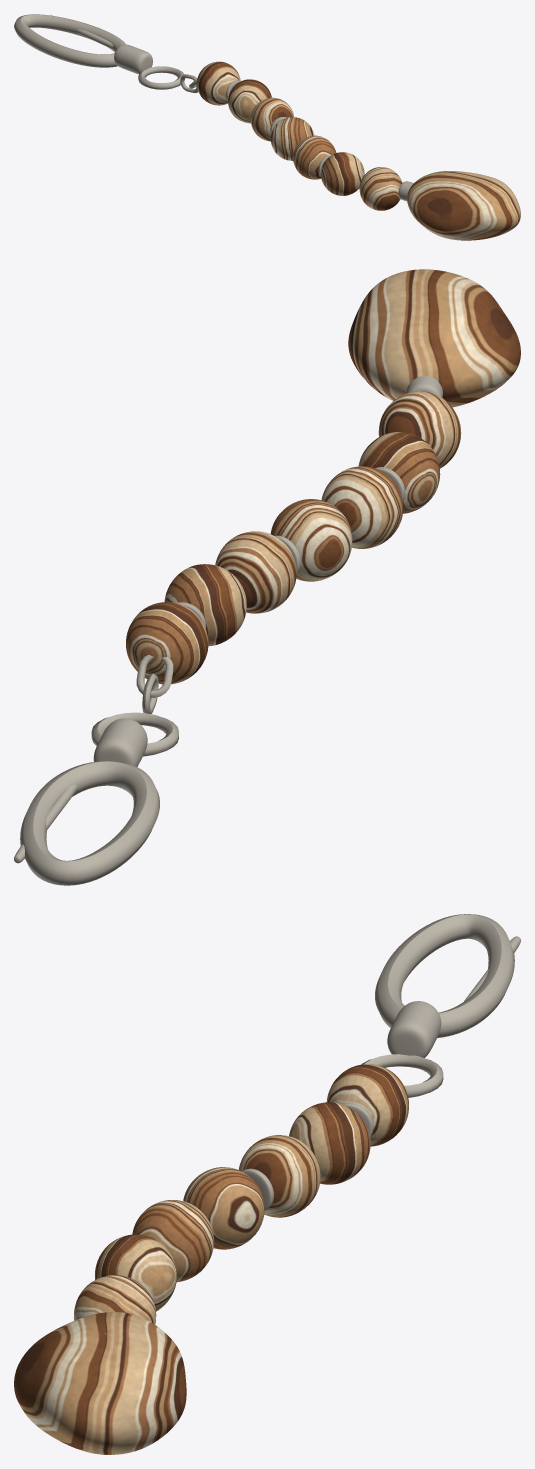
The model's file is standard.glb.
The picture shows the model from 3 angles, top to bottom: view 1: azimuth 30°, elevation 25°; view 2: azimuth 150°, elevation 25°; view 3: azimuth 330°, elevation 25°; orthographic projection. The views are drawn at different scales.
Visible parts, largest first — view 1: bead_pebble_1, hak.004, bead_round_2.001, bead_round_0.002, bead_round_0, bead_round_1.001, bead_round_1, bead_round_0.001, bead_round_2, bead_peg_0.004, kolko.030; view 2: bead_pebble_1, hak.004, bead_round_0, bead_round_1.001, bead_round_0.001, bead_round_2, bead_round_1, bead_round_2.001, bead_round_0.002, bead_peg_0.004, kolko.030, ogniwo.001; view 3: bead_pebble_1, hak.004, bead_round_0.001, bead_round_1, bead_round_2, bead_round_1.001, bead_round_0, bead_round_2.001, bead_round_0.002, bead_peg_0.004, kolko.030.
Boxes of the visible parts, left/top/right/bottom form: bead_pebble_1: left=407, top=171, right=520, bottom=240; hak.004: left=14, top=14, right=125, bottom=67; bead_round_2.001: left=321, top=152, right=364, bottom=195; bead_round_0.002: left=359, top=167, right=402, bottom=210; bead_round_0: left=197, top=61, right=240, bottom=105; bead_round_1.001: left=293, top=135, right=336, bottom=179; bead_round_1: left=228, top=79, right=271, bottom=123; bead_round_0.001: left=271, top=117, right=314, bottom=160; bead_round_2: left=250, top=97, right=294, bottom=141; bead_peg_0.004: left=114, top=44, right=152, bottom=74; kolko.030: left=138, top=66, right=184, bottom=89; bead_pebble_1: left=348, top=269, right=520, bottom=407; hak.004: left=20, top=761, right=159, bottom=885; bead_round_0: left=126, top=602, right=208, bottom=684; bead_round_1.001: left=321, top=466, right=403, bottom=548; bead_round_0.001: left=270, top=499, right=352, bottom=581; bead_round_2: left=215, top=531, right=296, bottom=613; bead_round_1: left=164, top=564, right=246, bottom=646; bead_round_2.001: left=358, top=432, right=440, bottom=513; bead_round_0.002: left=378, top=391, right=461, bottom=468; bead_peg_0.004: left=93, top=718, right=147, bottom=766; kolko.030: left=91, top=712, right=178, bottom=756; ogniwo.001: left=136, top=654, right=173, bottom=697; bead_pebble_1: left=14, top=1312, right=186, bottom=1454; hak.004: left=375, top=914, right=514, bottom=1037; bead_round_0.001: left=183, top=1167, right=264, bottom=1249; bead_round_1: left=289, top=1102, right=370, bottom=1184; bead_round_2: left=238, top=1135, right=320, bottom=1217; bead_round_1.001: left=132, top=1200, right=214, bottom=1282; bead_round_0: left=326, top=1064, right=408, bottom=1146; bead_round_2.001: left=95, top=1234, right=176, bottom=1311; bead_round_0.002: left=73, top=1275, right=156, bottom=1324; bead_peg_0.004: left=387, top=1001, right=441, bottom=1057; kolko.030: left=361, top=1054, right=443, bottom=1097.
Bounding box in the file's own units: 3.42 × 0.9879 × 11.51.
Materials: 4 (3 with a texture image).
